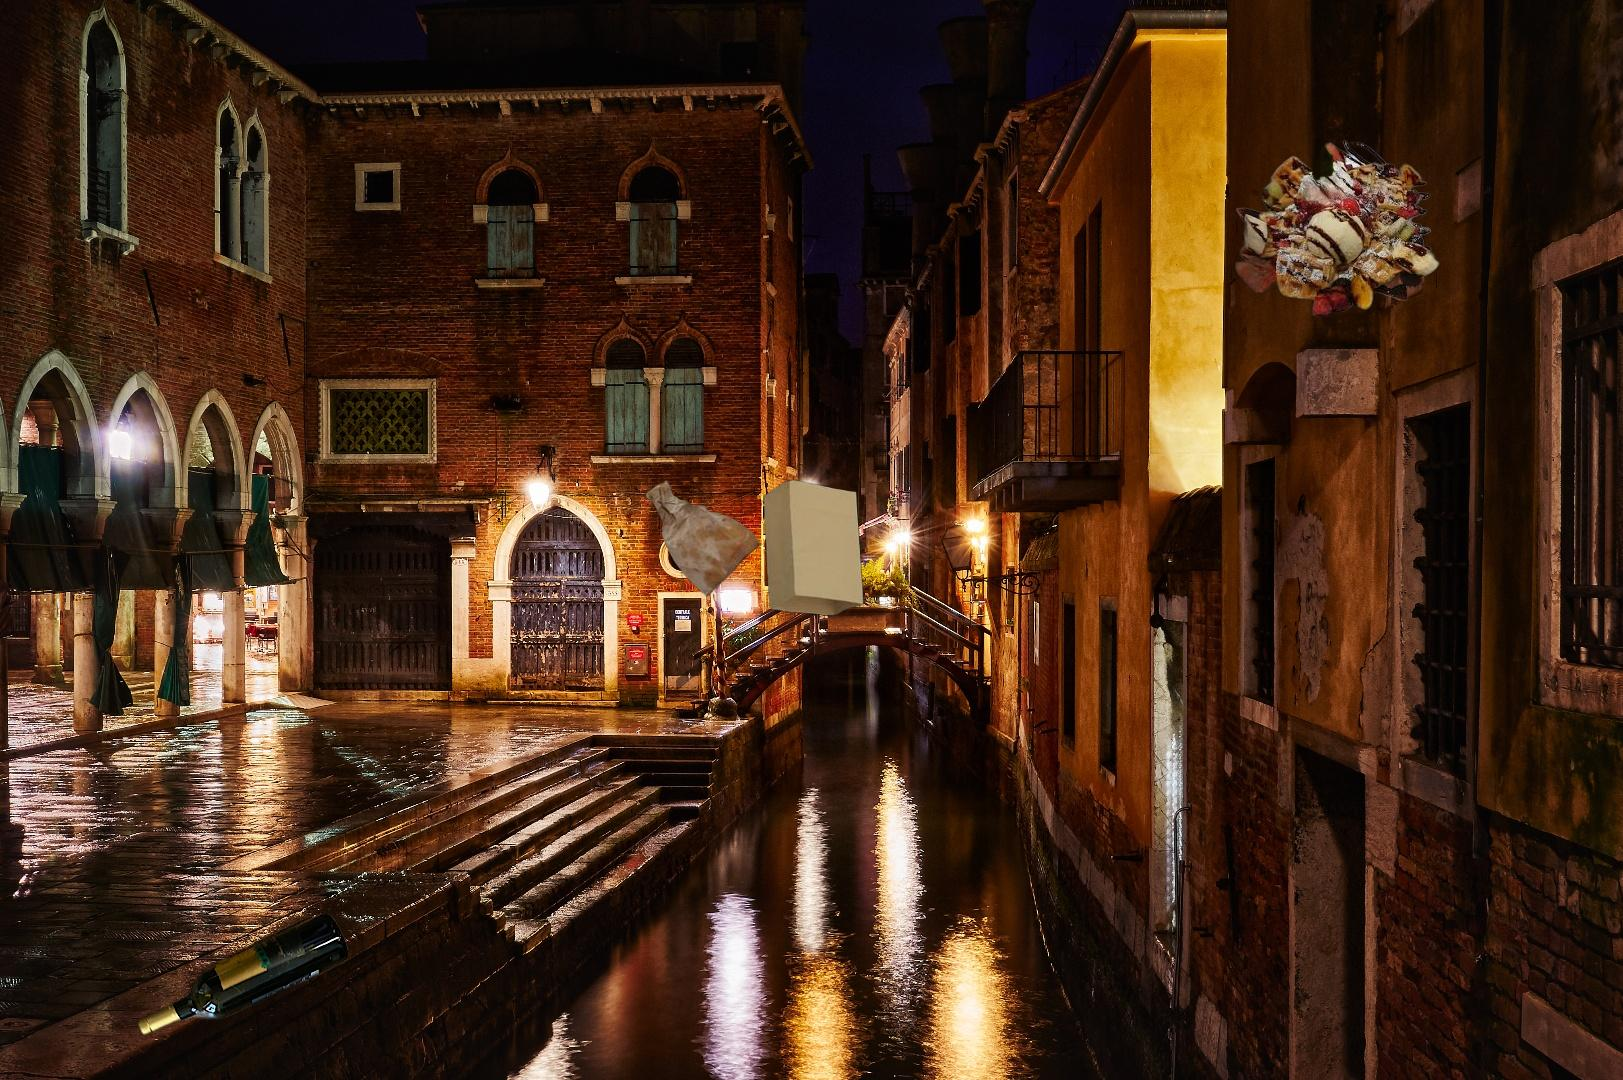biological: (1231, 133, 1443, 319)
glass: (133, 908, 353, 1041)
paper-bag: (642, 477, 868, 618)
